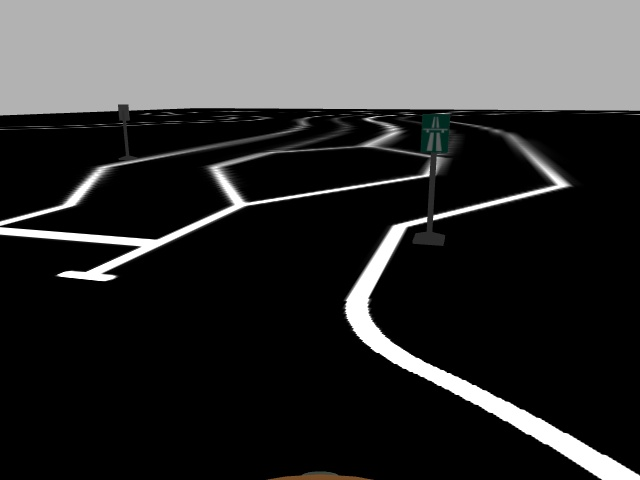enter_highway: (419, 112, 452, 155)
